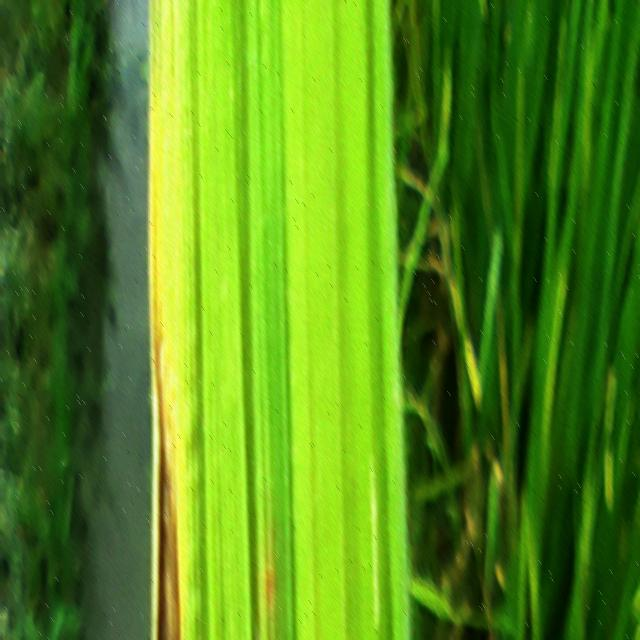NBS: (265, 520, 276, 617)
